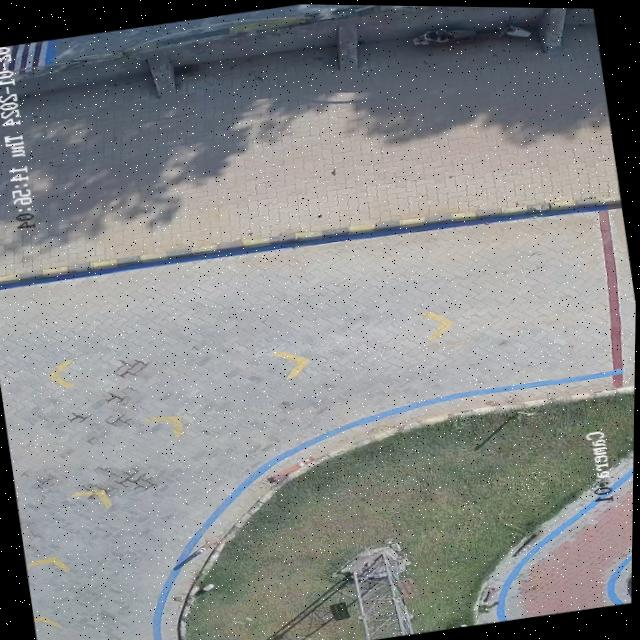No Car: (0, 3, 637, 640)
